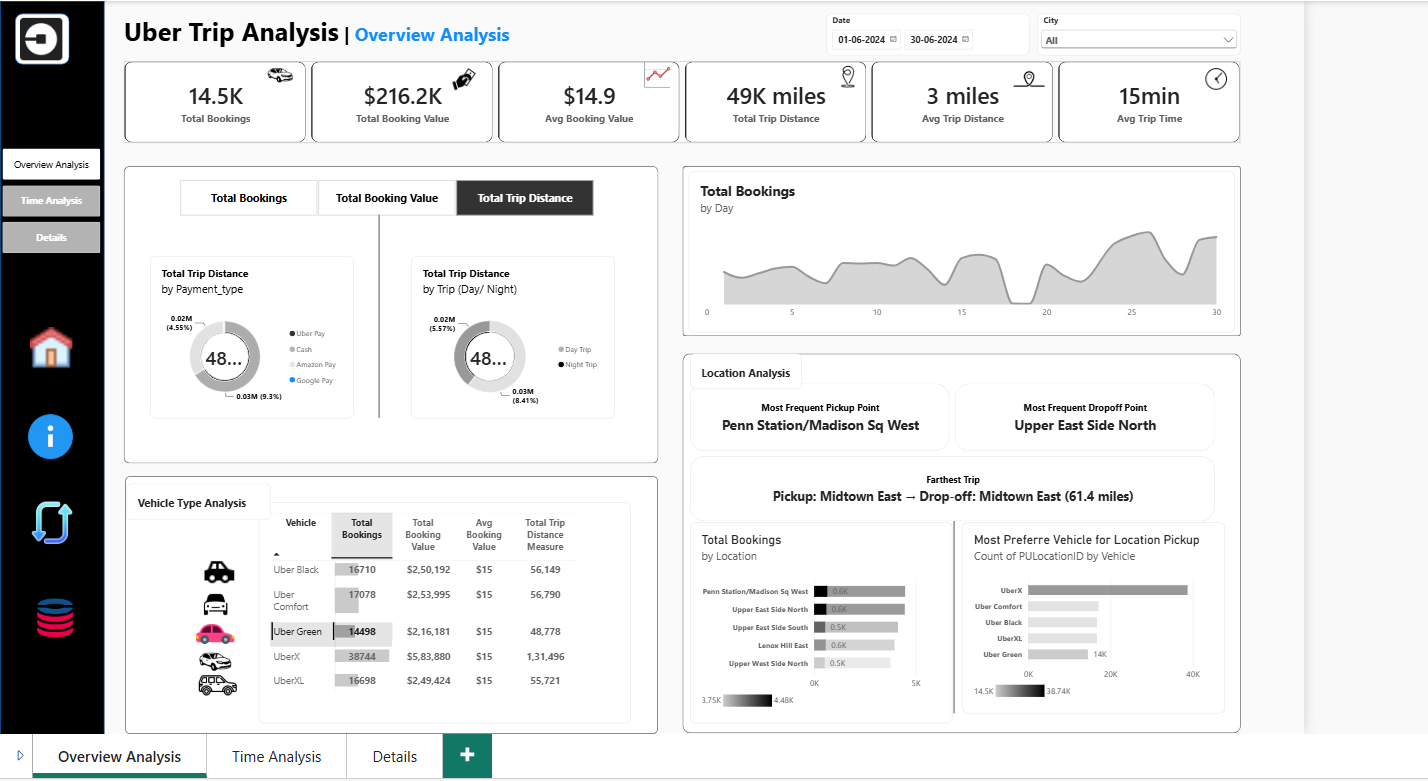

Layout of this report page (visuals, bound fields, positions):
{"tool":"powerbi","page":{"name":"Overview Analysis","canvas":[1920,1080],"ordinal":0},"visuals":[{"type":"shape","box":[0,0,153.8,1080.4],"z":0},{"type":"shape","box":[22,18,80,75],"z":0,"group":"g1"},{"type":"image","box":[30,12,62,86],"z":1000,"group":"g1"},{"type":"textbox","box":[182,18,690,58],"z":1000},{"type":"cardVisual","fields":{"Data":["Trip Details.Total Bookings","Trip Details.Total Booking Amount","Calendar Table.Avg Booking Amount","Trip Details.Total Trip Distance","Trip Details.Avg Trip Distance","Trip Details.Avg Trip Time"]},"box":[182.8,88.7,1645,121.2],"z":2000},{"type":"image","box":[658.7,97.7,48.9,34.4],"z":3000},{"type":"image","box":[1221.5,92.3,50.7,39.8],"z":4000},{"type":"image","box":[1485.7,92.3,59.7,45.2],"z":5000},{"type":"image","box":[1768,97.7,43.4,34.4],"z":6000},{"type":"image","box":[948.3,88.7,39.8,39.8],"z":7000},{"type":"image","box":[394.5,88.7,38,38],"z":8000},{"type":"shape","box":[182.8,242.5,787.2,437.9],"z":9000},{"type":"slicer","fields":{"Values":["Dynamic Measure.Dynamic Measure"]},"box":[244.3,260.6,647.9,56.1],"z":10000},{"type":"donutChart","fields":{"Category":["Trip Details.Payment_type"],"Y":["Trip Details.Total Trip Distance Measure"]},"box":[220.8,374.6,300,239],"z":11000},{"type":"donutChart","fields":{"Category":["Trip Details.Trip Type (Day/ Night)"],"Y":["Trip Details.Total Trip Distance Measure"]},"box":[606.2,374.6,300,239],"z":12000},{"type":"shape","box":[183.5,699.5,784.9,379.7],"z":13000},{"type":"pivotTable","fields":{"Rows":["Trip Details.Vehicle"],"Values":["Trip Details.Total Bookings","Trip Details.Total Booking Value","Calendar Table.Avg Booking Value","Trip Details.Total Trip Distance Measure"]},"box":[381.8,738.3,548.3,325.7],"z":14000},{"type":"image","box":[249.7,866.8,133.9,41.6],"z":15000},{"type":"image","box":[293.2,971.8,56.1,74.2],"z":16000},{"type":"image","box":[285.9,901.2,63.3,61.5],"z":17000},{"type":"image","box":[278.7,819.8,92.3,45.2],"z":18000},{"type":"image","box":[278.7,946.5,79.6,48.9],"z":19000},{"type":"cardVisual","fields":{"Data":["Trip Details.Title for Grid"]},"box":[186.4,711.2,213.5,54.3],"z":20000},{"type":"shape","box":[1005.6,243.2,822.2,250.5],"z":21000},{"type":"areaChart","fields":{"Category":["Calendar Table.Date.Variation.Date Hierarchy.Day"],"Y":["Trip Details.Total Bookings"]},"box":[1014.6,250.5,804.1,237.8],"z":22000},{"type":"shape","box":[1005.6,519.1,822.2,559],"z":23000},{"type":"cardVisual","fields":{"Data":["Trip Details.Most Frequent Pickup Point","Trip Details.Most Frequent Dropoff Point"]},"box":[1016.5,562.7,773.2,99.8],"z":24000},{"type":"cardVisual","fields":{"Data":["Trip Details.Farthest Trip"]},"box":[1016.5,669.8,773.2,96.2],"z":25000},{"type":"barChart","fields":{"Category":["Location Table.Location"],"Y":["Trip Details.Total Bookings"]},"box":[1016.5,767.8,386.6,295.9],"z":26000},{"type":"barChart","title":"Most Preferre Vehicle for Location Pickup","fields":{"Category":["Trip Details.Vehicle"],"Y":["CountNonNull(Trip Details.PULocationID)"]},"box":[1417.6,767.8,386.6,281.3],"z":27000},{"type":"shape","box":[530,314,56.3,299.5],"z":28000},{"type":"shape","box":[1375.8,766,56.3,283.2],"z":29000},{"type":"cardVisual","fields":{"Data":["Trip Details.Title for Location"]},"box":[1016.5,519.1,165.2,52.6],"z":30000},{"type":"slicer","fields":{"Values":["Calendar Table.Date"]},"box":[1216.1,18.2,299.5,61.7],"z":31000},{"type":"slicer","fields":{"Values":["Location Table.City"]},"box":[1528.3,18.2,299.5,61.7],"z":32000},{"type":"group","id":"g1","title":"Group 1","box":[22,12,80,86],"z":33000},{"type":"pageNavigator","box":[4,218,144,156],"z":34000},{"type":"image","box":[44.2,478.5,62.6,66.3],"z":35000},{"type":"image","box":[46,877.9,69.9,60.7],"z":36000},{"type":"image","box":[33.1,601.8,82.8,79.1],"z":37000},{"type":"image","box":[38.7,717.8,77.3,99.4],"z":38000}]}

Visuals, with their boxes on the page's 1920x1080 design canvas (x1, y1, x2, y2). These are canvas units, not pixel positions in the 1428x781 screenshot, which may show the page scaled, cropped or inside an application window:
shape: (0,0,154,1080)
shape: (22,18,102,93)
image: (30,12,92,98)
textbox: (182,18,872,76)
cardVisual - Trip Details.Total Bookings x Trip Details.Total Booking Amount: (183,89,1828,210)
image: (659,98,708,132)
image: (1222,92,1272,132)
image: (1486,92,1545,138)
image: (1768,98,1811,132)
image: (948,89,988,128)
image: (394,89,432,127)
shape: (183,242,970,680)
slicer - Dynamic Measure.Dynamic Measure: (244,261,892,317)
donutChart - Trip Details.Payment_type x Trip Details.Total Trip Distance Measure: (221,375,521,614)
donutChart - Trip Details.Trip Type (Day/ Night) x Trip Details.Total Trip Distance Measure: (606,375,906,614)
shape: (184,700,968,1079)
pivotTable - Trip Details.Vehicle x Trip Details.Total Bookings: (382,738,930,1064)
image: (250,867,384,908)
image: (293,972,349,1046)
image: (286,901,349,963)
image: (279,820,371,865)
image: (279,946,358,995)
cardVisual - Trip Details.Title for Grid: (186,711,400,766)
shape: (1006,243,1828,494)
areaChart - Calendar Table.Date.Variation.Date Hierarchy.Day x Trip Details.Total Bookings: (1015,250,1819,488)
shape: (1006,519,1828,1078)
cardVisual - Trip Details.Most Frequent Pickup Point x Trip Details.Most Frequent Dropoff Point: (1016,563,1790,662)
cardVisual - Trip Details.Farthest Trip: (1016,670,1790,766)
barChart - Location Table.Location x Trip Details.Total Bookings: (1016,768,1403,1064)
"Most Preferre Vehicle for Location Pickup" barChart: (1418,768,1804,1049)
shape: (530,314,586,614)
shape: (1376,766,1432,1049)
cardVisual - Trip Details.Title for Location: (1016,519,1182,572)
slicer - Calendar Table.Date: (1216,18,1516,80)
slicer - Location Table.City: (1528,18,1828,80)
"Group 1" group: (22,12,102,98)
pageNavigator: (4,218,148,374)
image: (44,478,107,545)
image: (46,878,116,939)
image: (33,602,116,681)
image: (39,718,116,817)
